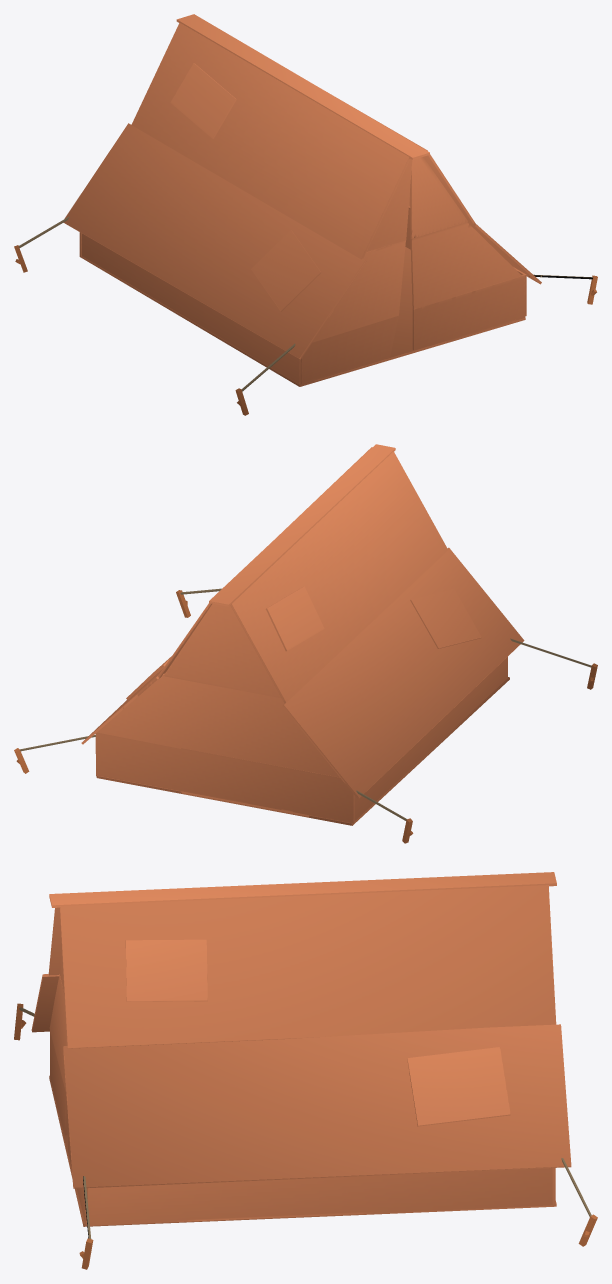
Rendered from tent.glb.
3 renders of one model, top to bottom at view 1: azimuth 30°, elevation 25°; view 2: azimuth 150°, elevation 25°; view 3: azimuth 270°, elevation 25°, orthographic. The views are drawn at different scales.
Parts seen in each view (by area): view 1: log.033; view 2: log.033; view 3: log.033.
Boxes of the visible parts, x1=… form: log.033: x1=14, y1=14, x2=597, y2=415; log.033: x1=14, y1=444, x2=597, y2=843; log.033: x1=14, y1=872, x2=597, y2=1269.
Bounding box in the file's own units: 3.97 × 1.9 × 3.91.
Materials: 3 (3 with a texture image).
